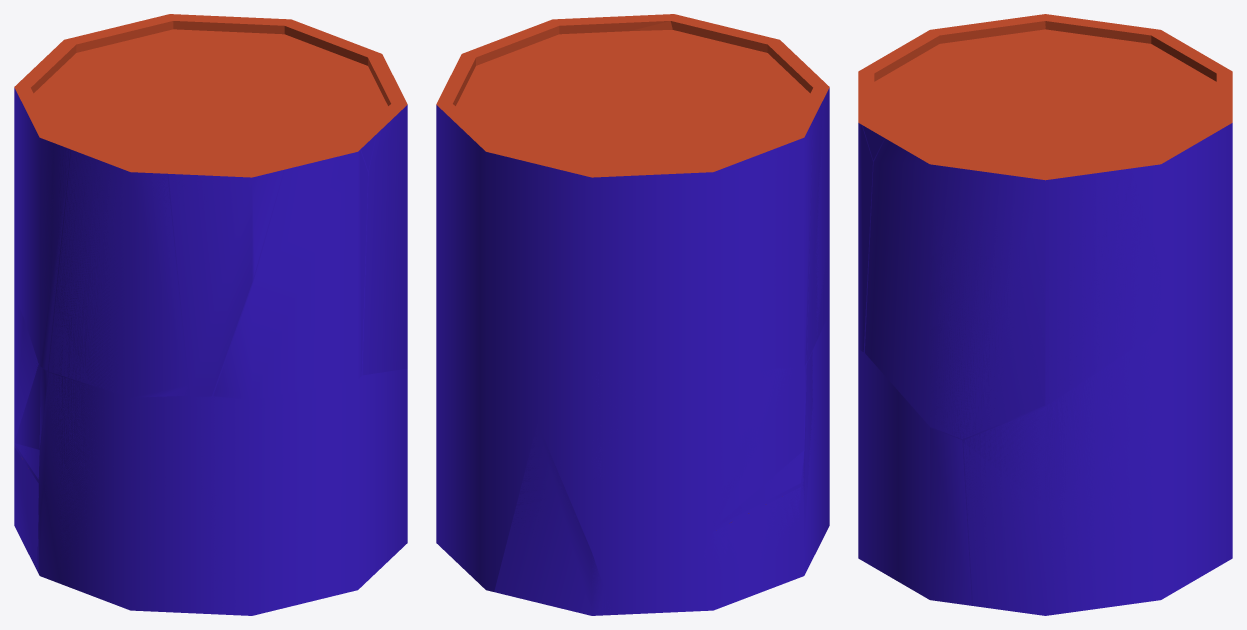
File: P_ConserveL_Colored_Breakable.fbx
3 renders of one model, left to right at view 1: azimuth 30°, elevation 25°; view 2: azimuth 150°, elevation 25°; view 3: azimuth 270°, elevation 25°, orthographic.
Parts seen in each view (by area): view 1: P_ConserveL_Colored_Breakable, P_ConserveL_Colored_Breakable_cell.010, P_ConserveL_Colored_Breakable_cell.004, P_ConserveL_Colored_Breakable_cell.005, P_ConserveL_Colored_Breakable_cell, P_ConserveL_Colored_Breakable_cell.012, P_ConserveL_Colored_Breakable_cell.006, P_ConserveL_Colored_Breakable_cell.008, P_ConserveL_Colored_Breakable_cell.002, P_ConserveL_Colored_Breakable_cell.011, P_ConserveL_Colored_Breakable_cell.014, P_ConserveL_Colored_Breakable_cell.007 (+1 smaller); view 2: P_ConserveL_Colored_Breakable, P_ConserveL_Colored_Breakable_cell.012, P_ConserveL_Colored_Breakable_cell.001, P_ConserveL_Colored_Breakable_cell, P_ConserveL_Colored_Breakable_cell.002, P_ConserveL_Colored_Breakable_cell.007, P_ConserveL_Colored_Breakable_cell.011, P_ConserveL_Colored_Breakable_cell.003, P_ConserveL_Colored_Breakable_cell.010, P_ConserveL_Colored_Breakable_cell.014, P_ConserveL_Colored_Breakable_cell.008, P_ConserveL_Colored_Breakable_cell.004; view 3: P_ConserveL_Colored_Breakable, P_ConserveL_Colored_Breakable_cell, P_ConserveL_Colored_Breakable_cell.013, P_ConserveL_Colored_Breakable_cell.012, P_ConserveL_Colored_Breakable_cell.005, P_ConserveL_Colored_Breakable_cell.002, P_ConserveL_Colored_Breakable_cell.011, P_ConserveL_Colored_Breakable_cell.014, P_ConserveL_Colored_Breakable_cell.004.
Boxes of the visible parts, left/top/right/bottom form: P_ConserveL_Colored_Breakable: left=14, top=28, right=407, bottom=615; P_ConserveL_Colored_Breakable_cell.010: left=49, top=150, right=188, bottom=397; P_ConserveL_Colored_Breakable_cell.004: left=213, top=149, right=367, bottom=399; P_ConserveL_Colored_Breakable_cell.005: left=195, top=380, right=357, bottom=615; P_ConserveL_Colored_Breakable_cell: left=250, top=29, right=407, bottom=375; P_ConserveL_Colored_Breakable_cell.012: left=40, top=14, right=313, bottom=116; P_ConserveL_Colored_Breakable_cell.006: left=168, top=141, right=283, bottom=396; P_ConserveL_Colored_Breakable_cell.008: left=37, top=372, right=191, bottom=610; P_ConserveL_Colored_Breakable_cell.002: left=31, top=105, right=175, bottom=370; P_ConserveL_Colored_Breakable_cell.011: left=190, top=94, right=375, bottom=170; P_ConserveL_Colored_Breakable_cell.014: left=14, top=63, right=114, bottom=118; P_ConserveL_Colored_Breakable_cell.007: left=14, top=296, right=48, bottom=479; P_ConserveL_Colored_Breakable: left=436, top=14, right=829, bottom=615; P_ConserveL_Colored_Breakable_cell.012: left=436, top=91, right=681, bottom=177; P_ConserveL_Colored_Breakable_cell.001: left=494, top=424, right=610, bottom=615; P_ConserveL_Colored_Breakable_cell: left=443, top=17, right=628, bottom=100; P_ConserveL_Colored_Breakable_cell.002: left=677, top=103, right=812, bottom=365; P_ConserveL_Colored_Breakable_cell.007: left=547, top=364, right=806, bottom=543; P_ConserveL_Colored_Breakable_cell.011: left=592, top=21, right=698, bottom=106; P_ConserveL_Colored_Breakable_cell.003: left=693, top=487, right=800, bottom=583; P_ConserveL_Colored_Breakable_cell.010: left=807, top=100, right=829, bottom=362; P_ConserveL_Colored_Breakable_cell.014: left=651, top=139, right=762, bottom=174; P_ConserveL_Colored_Breakable_cell.008: left=802, top=351, right=817, bottom=547; P_ConserveL_Colored_Breakable_cell.004: left=676, top=15, right=745, bottom=54; P_ConserveL_Colored_Breakable: left=858, top=14, right=1232, bottom=614; P_ConserveL_Colored_Breakable_cell: left=865, top=128, right=1160, bottom=439; P_ConserveL_Colored_Breakable_cell.013: left=963, top=326, right=1174, bottom=615; P_ConserveL_Colored_Breakable_cell.012: left=1036, top=51, right=1232, bottom=168; P_ConserveL_Colored_Breakable_cell.005: left=930, top=428, right=971, bottom=605; P_ConserveL_Colored_Breakable_cell.002: left=1002, top=15, right=1095, bottom=84; P_ConserveL_Colored_Breakable_cell.011: left=862, top=89, right=1052, bottom=159; P_ConserveL_Colored_Breakable_cell.014: left=1091, top=21, right=1197, bottom=70; P_ConserveL_Colored_Breakable_cell.004: left=858, top=87, right=902, bottom=351.
Bounding box in the file's own units: 74.79 × 91.43 × 71.13.
